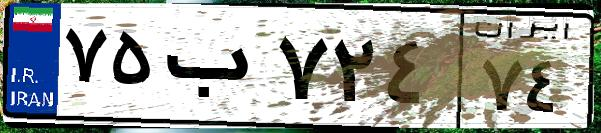2: (330, 28, 385, 110)
4: (385, 28, 445, 110), (525, 38, 570, 115)
5: (110, 28, 158, 98)
7: (270, 28, 330, 110), (57, 26, 110, 100), (475, 38, 525, 113)
ب: (158, 20, 270, 120)
